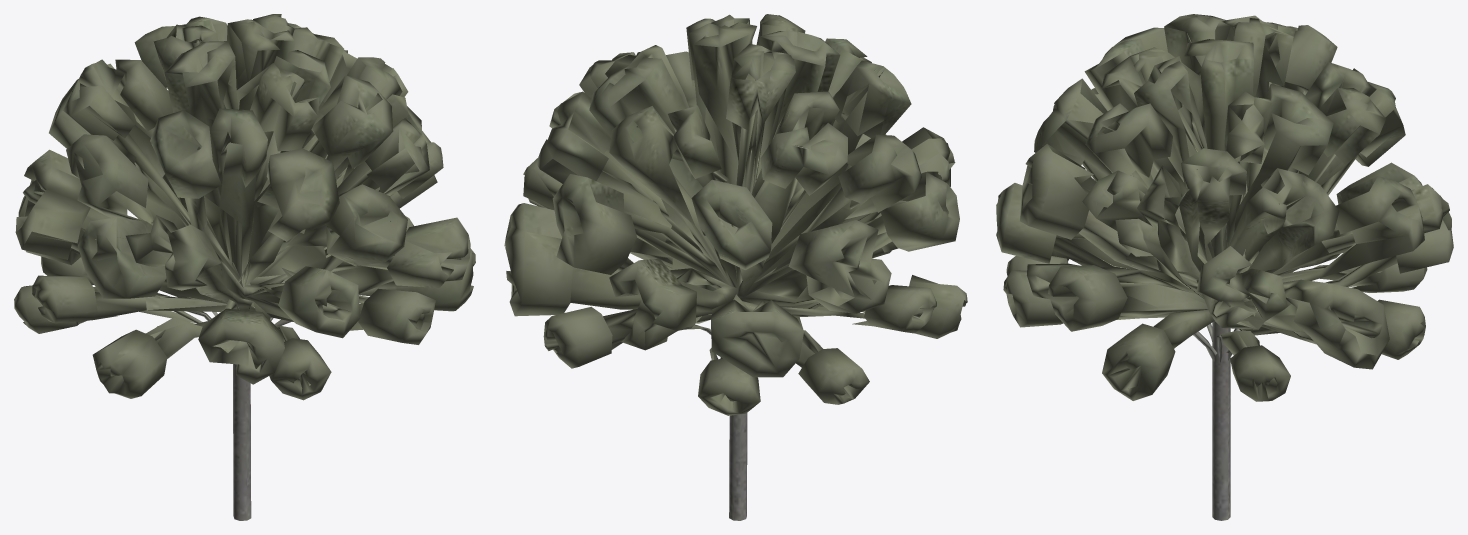
File: street_tree_a.glb
3 renders of one model, left to right at view 1: azimuth 30°, elevation 25°; view 2: azimuth 150°, elevation 25°; view 3: azimuth 270°, elevation 25°, orthographic.
Parts seen in each view (by area): view 1: TesanaFacingY180; view 2: TesanaFacingY180; view 3: TesanaFacingY180.
Boxes of the visible parts, <box> form: TesanaFacingY180: <box>14,14,475,520</box>; TesanaFacingY180: <box>504,14,967,520</box>; TesanaFacingY180: <box>996,14,1453,520</box>.
Size of the model in its own units: 5.13 by 6 by 5.16.
1 material, 1 textured.
